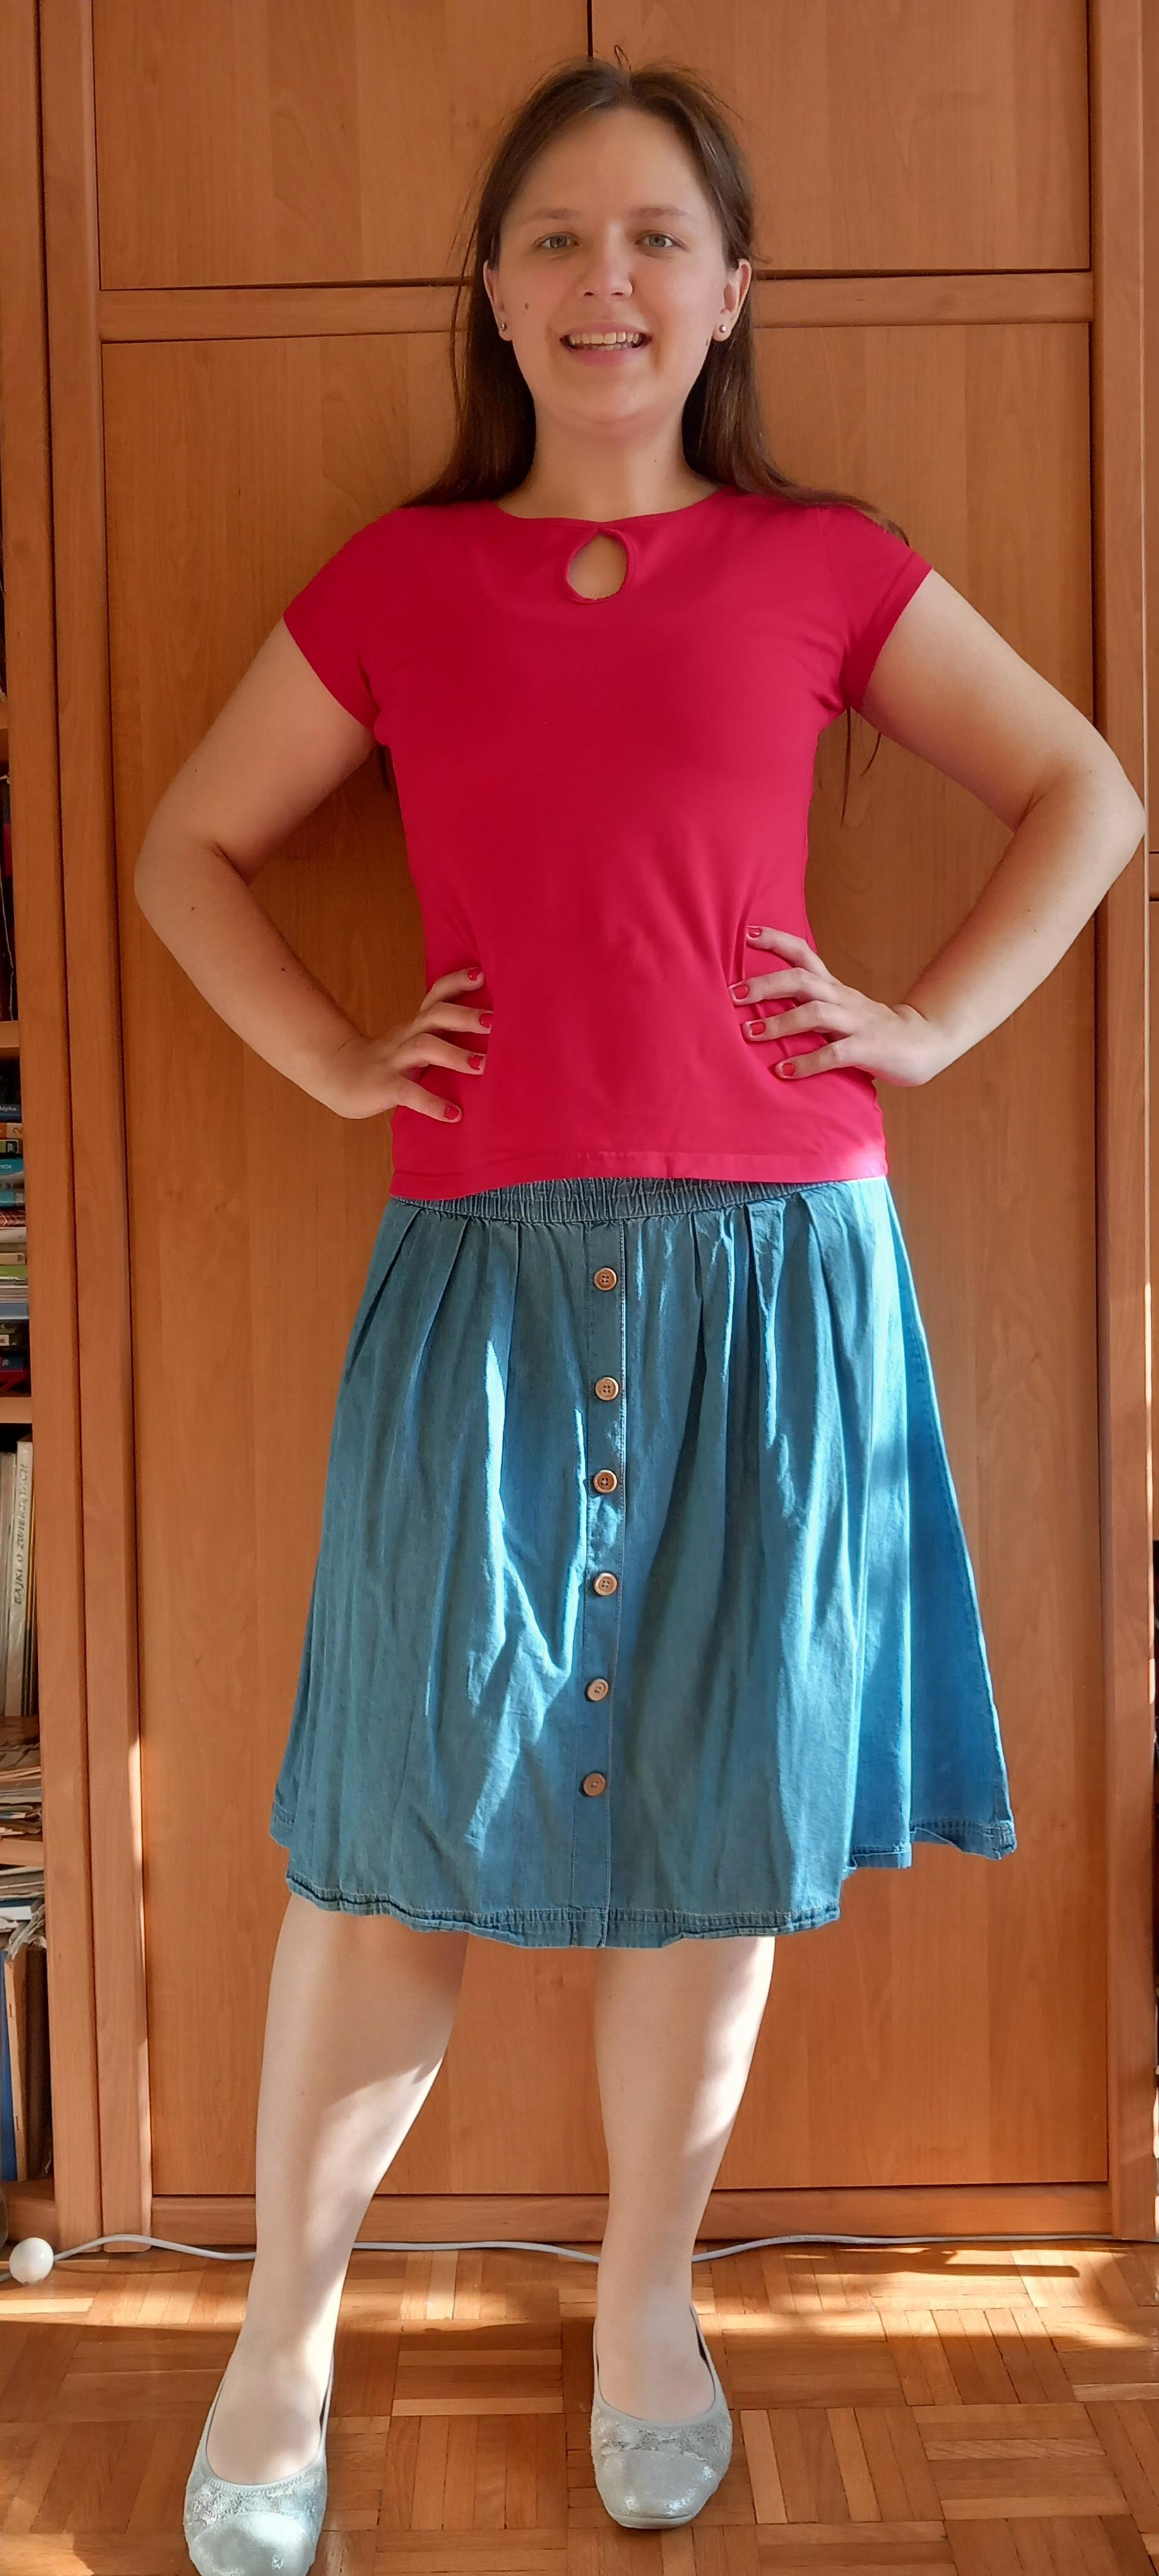Tshirt: (277, 491, 936, 1206)
skirt: (269, 1184, 1016, 1953)
